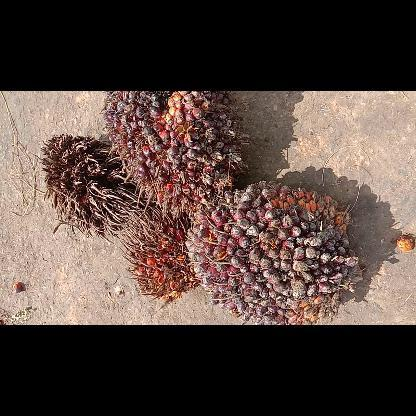Janjang kosong: (38, 131, 156, 243)
Kurang masak: (184, 178, 366, 324)
TBS masak: (99, 92, 255, 220)
Terlalu masak: (116, 206, 208, 306)
